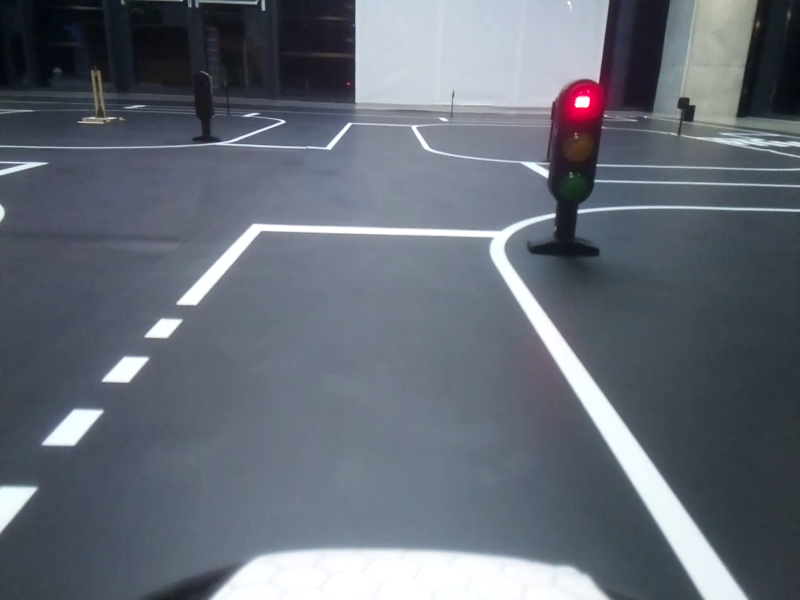traffic_red: (545, 78, 598, 204)
